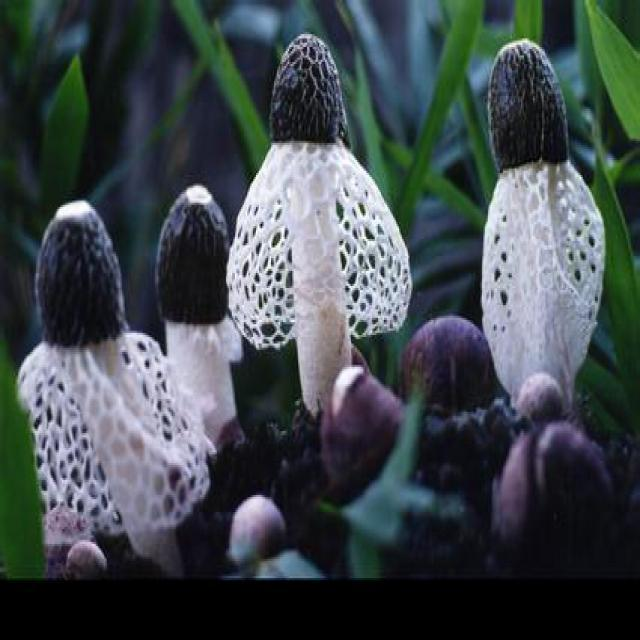Dictyophora indusiate: (225, 35, 413, 414), (16, 205, 216, 555), (482, 40, 608, 408), (157, 187, 244, 430)
